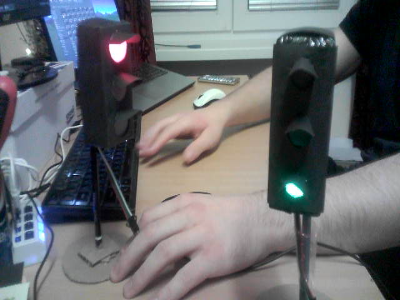trafficlight_green: (271, 47, 327, 210)
trafficlight_red: (96, 24, 132, 131)
